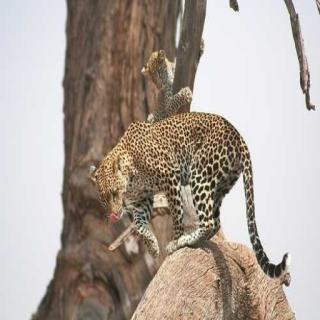Leopard: (87, 108, 294, 279)
